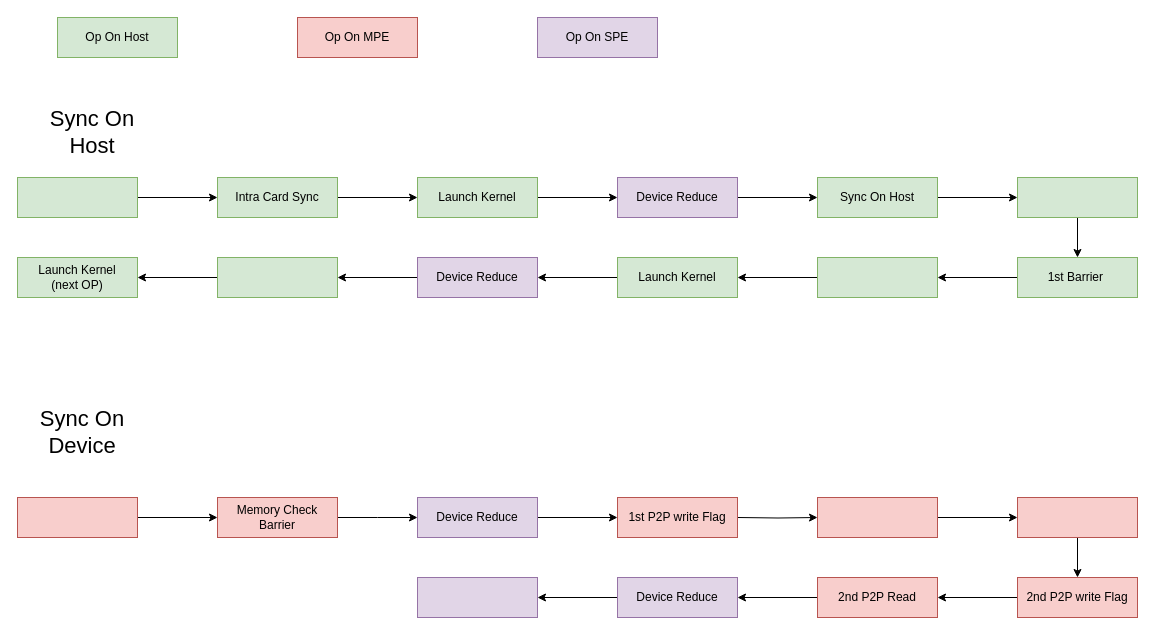
This 1155x635 diagram has some shape labels left out. Each missing label, with the centre of its shape:
1st P2P: (x=1077, y=197)
1st P2P Read: (x=1077, y=517)
2nd P2P: (x=877, y=277)
Memroy Check: (x=877, y=517)
MPE set Flage: (x=77, y=517)
Next Kernel: (x=477, y=597)
Sdaa Launch Host: (x=77, y=197)
Sync On Host & Device Barrier: (x=277, y=277)
